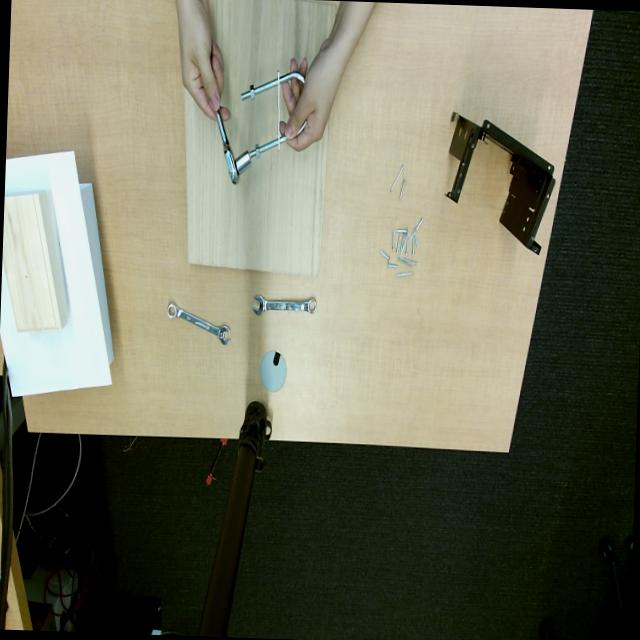wrench: (166, 302, 230, 344), (216, 110, 251, 184), (253, 293, 316, 316)
